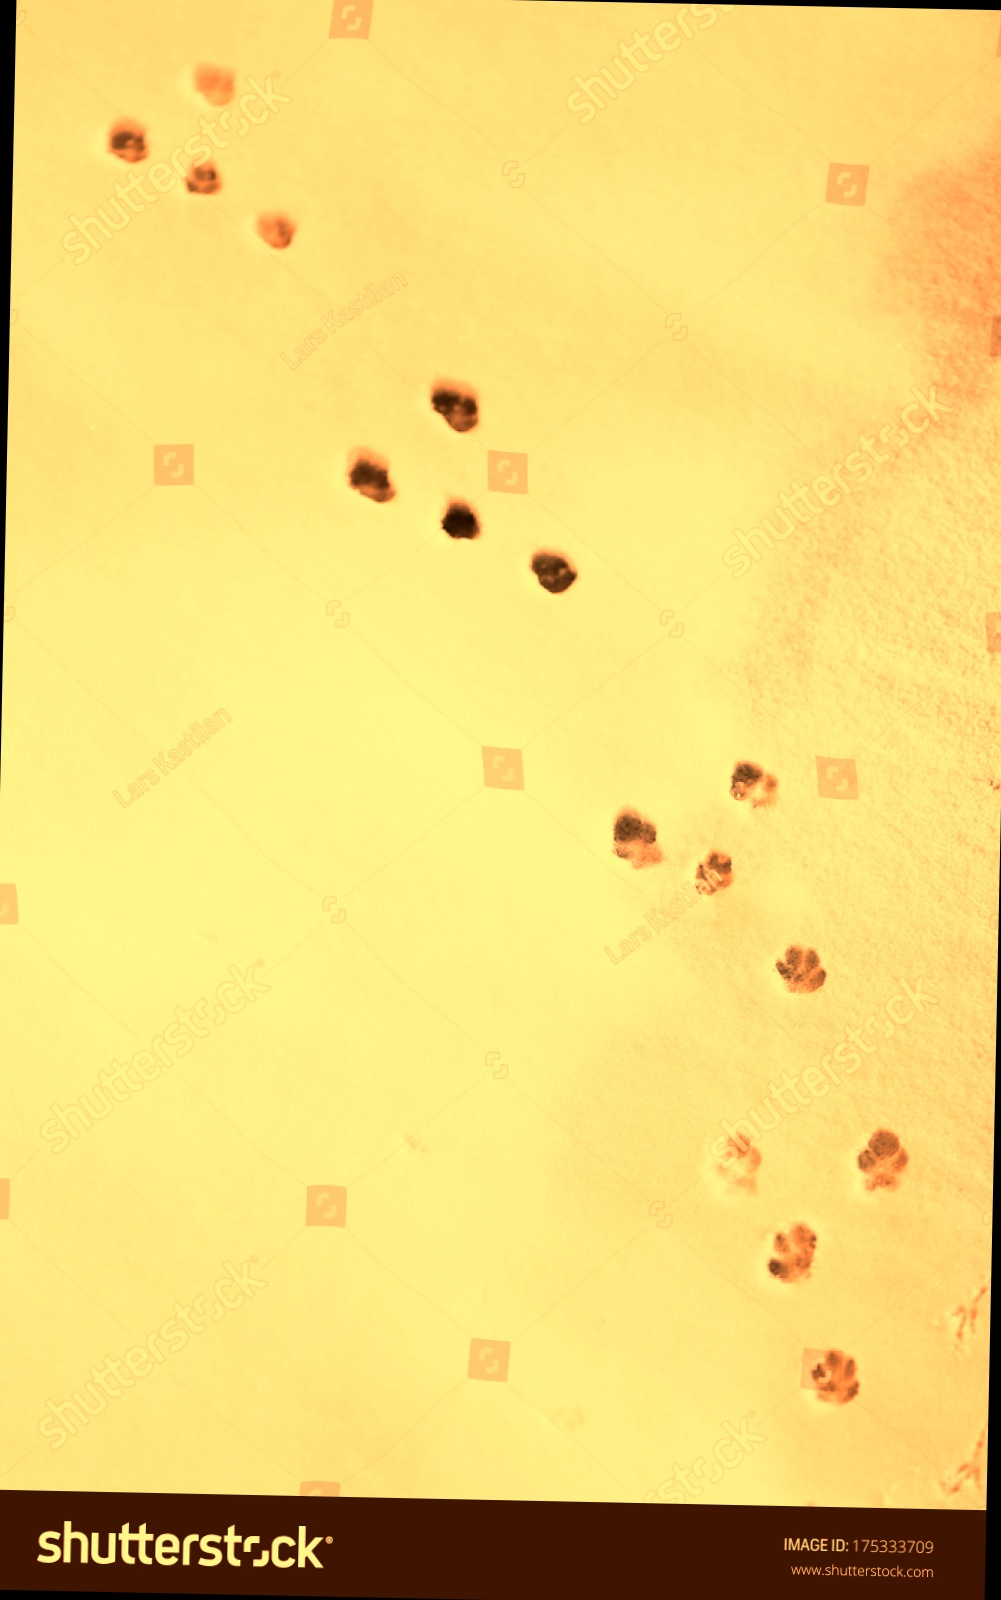lapin: (787, 1333, 904, 1439), (842, 1116, 934, 1203), (337, 427, 419, 524), (593, 803, 672, 880), (766, 936, 846, 1011), (765, 1207, 835, 1292), (424, 367, 492, 450), (176, 41, 256, 108), (728, 740, 789, 827), (522, 531, 590, 607), (432, 480, 494, 559), (701, 1123, 766, 1192), (90, 105, 153, 172), (682, 841, 740, 908), (250, 206, 307, 258), (178, 144, 225, 201)
